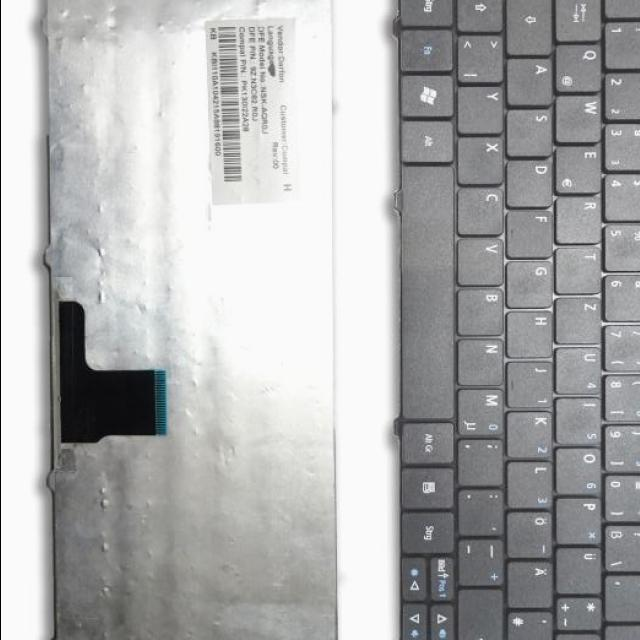0: (603, 472, 640, 520)
1: (603, 20, 640, 69)
2: (603, 70, 640, 120)
3: (604, 121, 640, 171)
4: (604, 172, 640, 220)
5: (604, 221, 640, 271)
6: (603, 272, 640, 321)
7: (603, 323, 640, 371)
8: (603, 373, 640, 421)
9: (603, 423, 640, 471)
a: (507, 57, 555, 106)
accent: (606, 572, 640, 620)
ae: (507, 559, 555, 607)
alt-left: (403, 119, 455, 162)
altgr-right: (402, 420, 456, 464)
b: (458, 286, 507, 335)
c: (458, 184, 507, 236)
caret: (603, 0, 640, 17)
comma: (457, 436, 505, 485)
d: (507, 158, 555, 207)
del: (606, 623, 640, 640)
e: (554, 144, 603, 194)
enter: (506, 631, 602, 640)
f: (507, 208, 556, 258)
g: (507, 258, 556, 308)
h: (507, 308, 555, 358)
hash: (508, 608, 556, 640)
i: (556, 395, 604, 444)
j: (507, 358, 555, 409)
k: (507, 409, 553, 458)
keyboard: (397, 0, 640, 640)
l: (507, 459, 553, 508)
less: (457, 33, 505, 82)
m: (457, 386, 505, 434)
minus: (459, 536, 505, 585)
n: (458, 336, 507, 385)
o: (556, 445, 602, 494)
oe: (507, 509, 553, 557)
p: (556, 494, 604, 543)
plus: (557, 595, 603, 629)
point: (458, 487, 504, 535)
q: (556, 42, 602, 92)
r: (556, 194, 602, 244)
s: (507, 107, 553, 156)
shift-left: (458, 1, 504, 31)
shift-lock: (508, 0, 554, 54)
shift-right: (457, 586, 505, 640)
space: (401, 166, 456, 418)
ss: (604, 522, 640, 570)
strg-left: (400, 1, 455, 25)
strg-right: (402, 510, 456, 553)
t: (556, 244, 604, 294)
tab: (556, 0, 604, 40)
u: (554, 343, 603, 394)
ue: (556, 545, 604, 593)
v: (456, 236, 506, 286)
w: (554, 92, 603, 142)
x: (457, 134, 505, 184)
y: (457, 84, 505, 134)
z: (554, 295, 603, 344)
